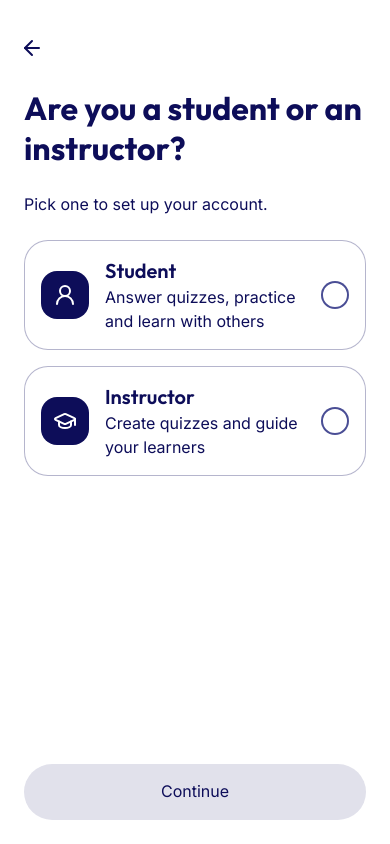
Scenario: phone role screen › saves the role for sign up and opens the sign-up form
The image size is (390, 844).
Click the radio button labelled "Instructor Create quizzes and guide your learners" at [195, 421], box [24, 366, 366, 476]
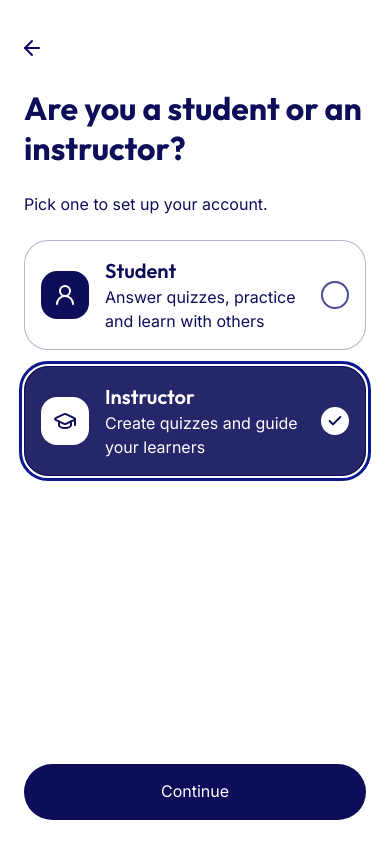
Click the button "Continue" at [195, 792], box [24, 764, 366, 820]
(page scrolled)
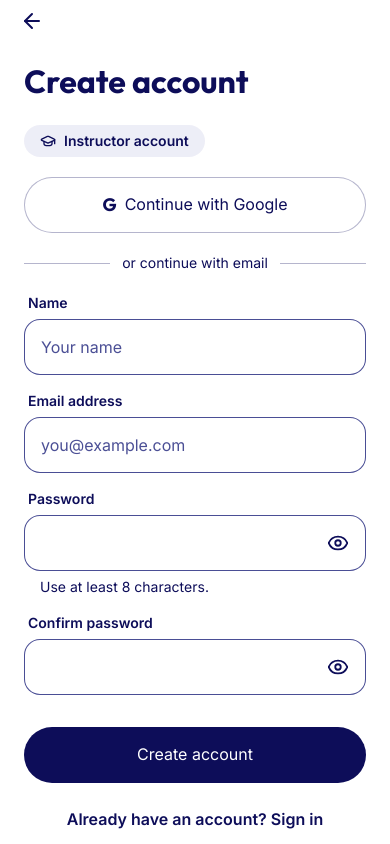
Expected: the number of headings is 1, [24, 61, 248, 101]
Now the heading "Create account" is shown, box [24, 61, 248, 101]
